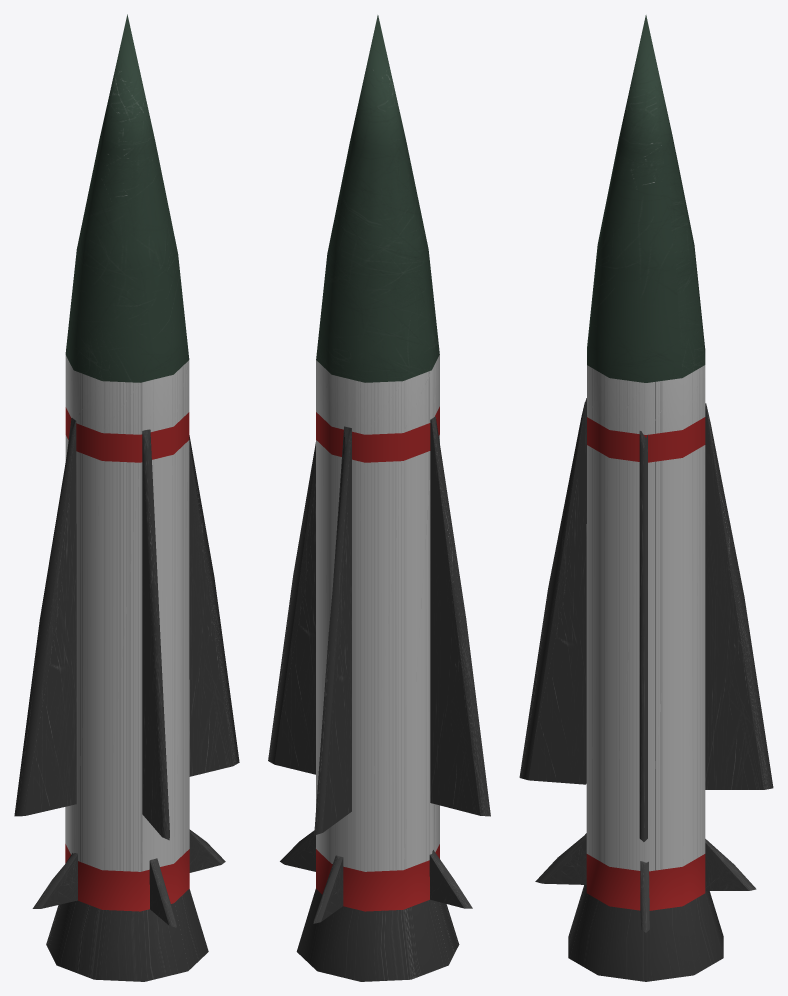
File: missile.fbx
3 renders of one model, left to right at view 1: azimuth 30°, elevation 25°; view 2: azimuth 150°, elevation 25°; view 3: azimuth 270°, elevation 25°, orthographic.
Parts seen in each view (by area): view 1: pCube9; view 2: pCube9; view 3: pCube9.
Boxes of the visible parts, x1,y1,x2,y2 form: pCube9: [14, 14, 239, 981]; pCube9: [268, 15, 490, 981]; pCube9: [519, 15, 773, 981].
Bounding box in the file's own units: 3.16 × 12.67 × 3.11.
